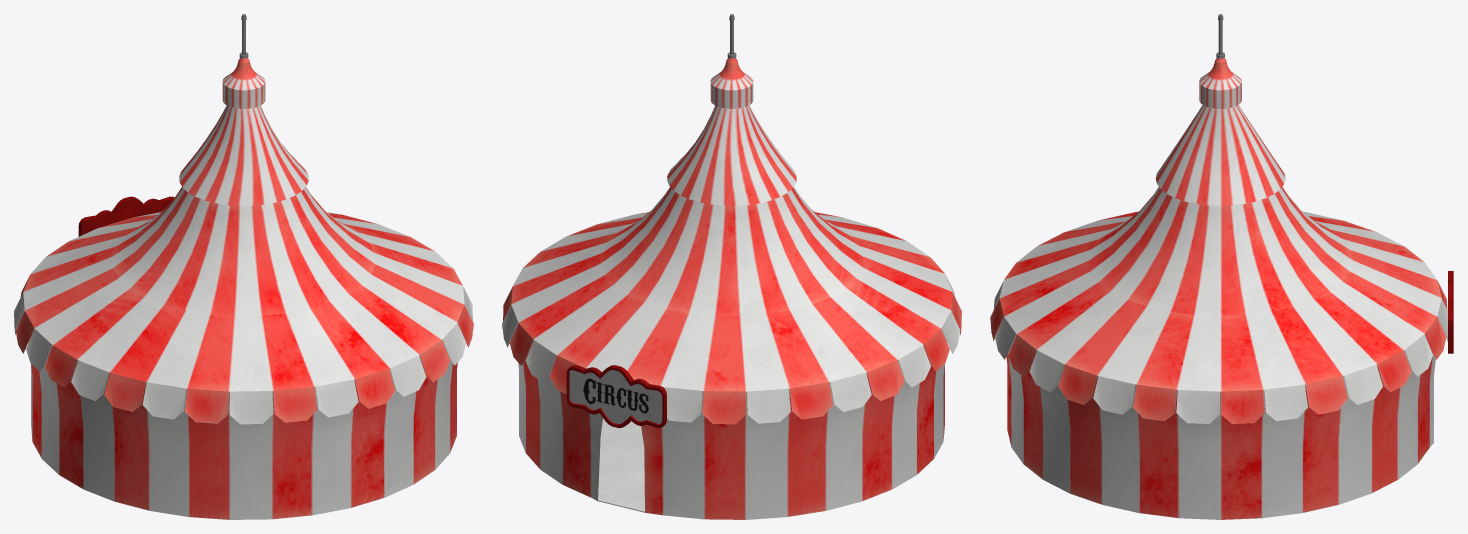
Rendered from circusTent.glb.
3 views of the same model, side by side, from view 1: azimuth 30°, elevation 25°; view 2: azimuth 150°, elevation 25°; view 3: azimuth 270°, elevation 25° (orthographic).
Visible parts, largest first — view 1: Circle_0, Cube_3; view 2: Circle_0, Cube_3; view 3: Circle_0.
Part boxes in pixels (bbox=[...]): Circle_0: bbox=[14, 61, 473, 519]; Cube_3: bbox=[78, 196, 174, 236]; Circle_0: bbox=[502, 61, 961, 519]; Cube_3: bbox=[566, 365, 666, 427]; Circle_0: bbox=[990, 61, 1447, 519].
Size of the model in its own units: 9.72 by 9.66 by 9.78.
Materials: 2 (2 with a texture image).
